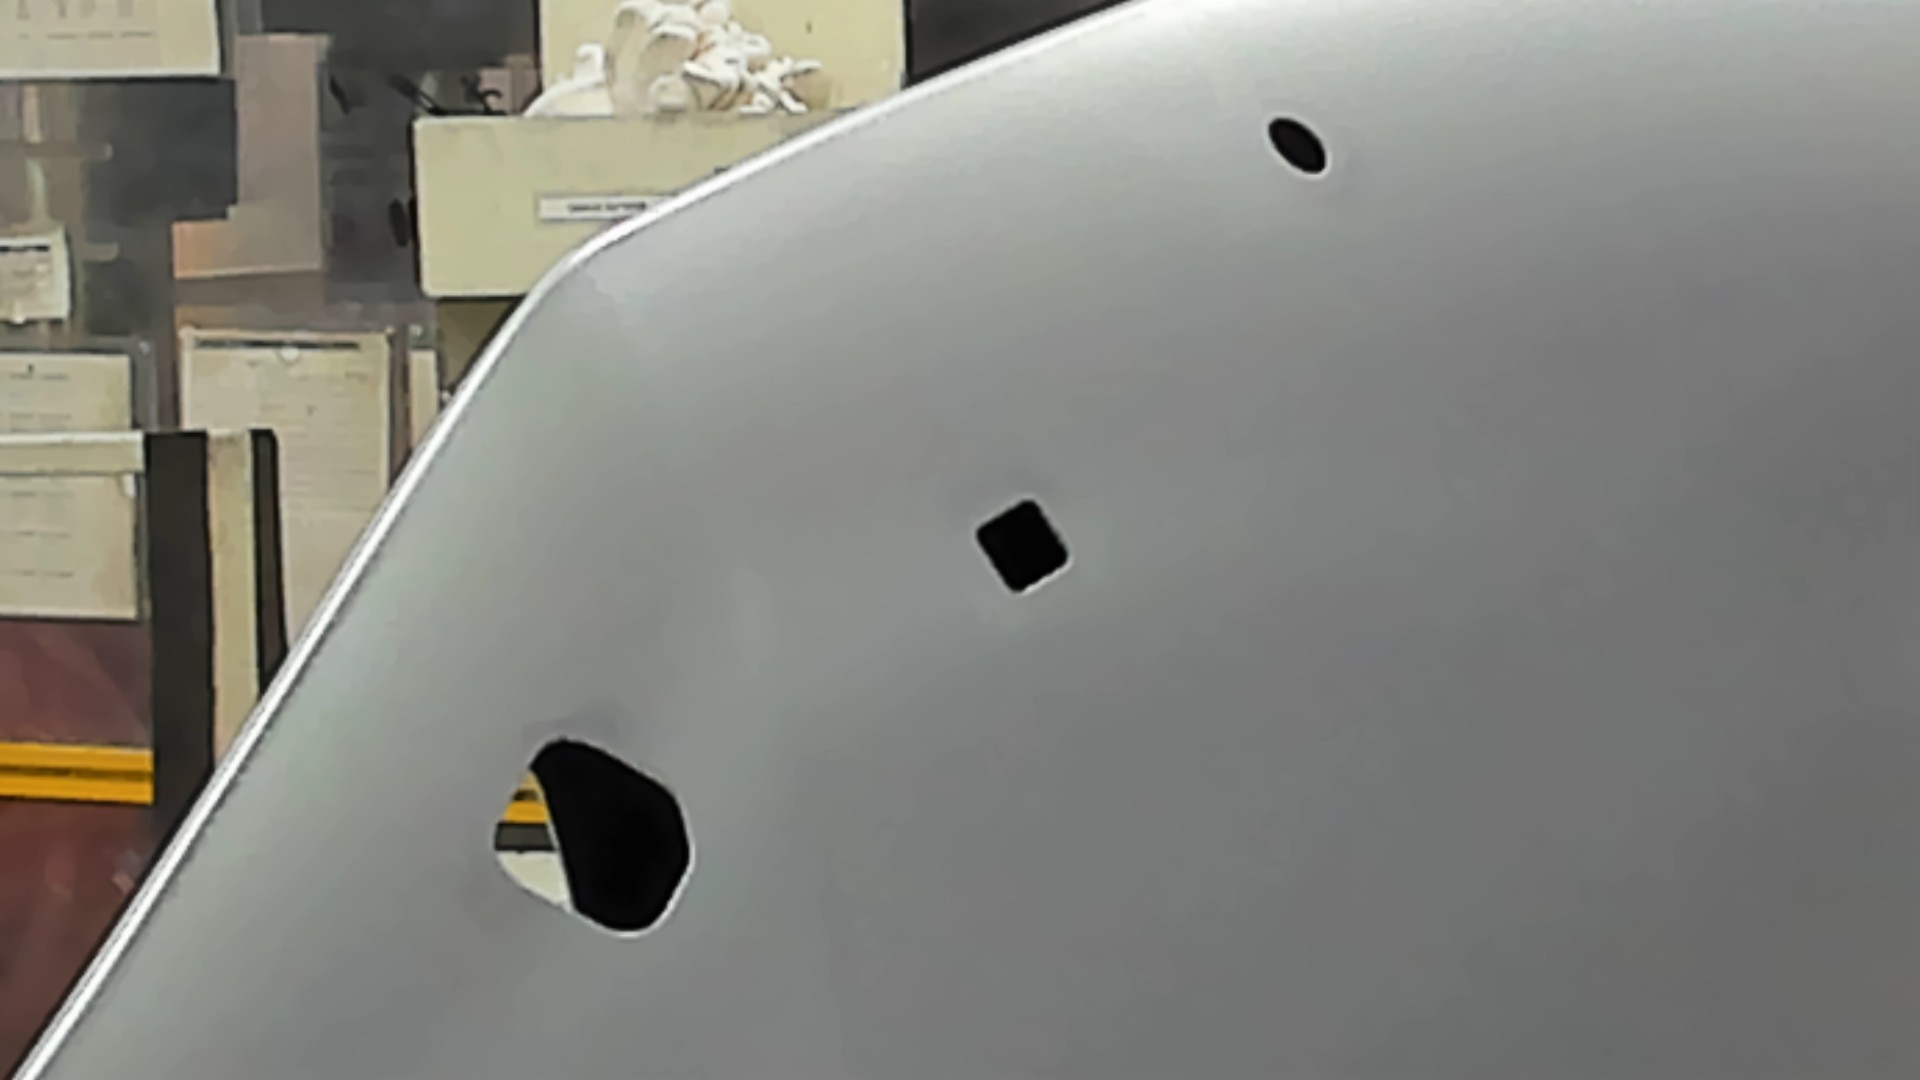capo: (1085, 185, 1920, 1080)
chico: (1265, 111, 1332, 183)
grande: (487, 731, 702, 945)
mediano: (967, 495, 1077, 601)
